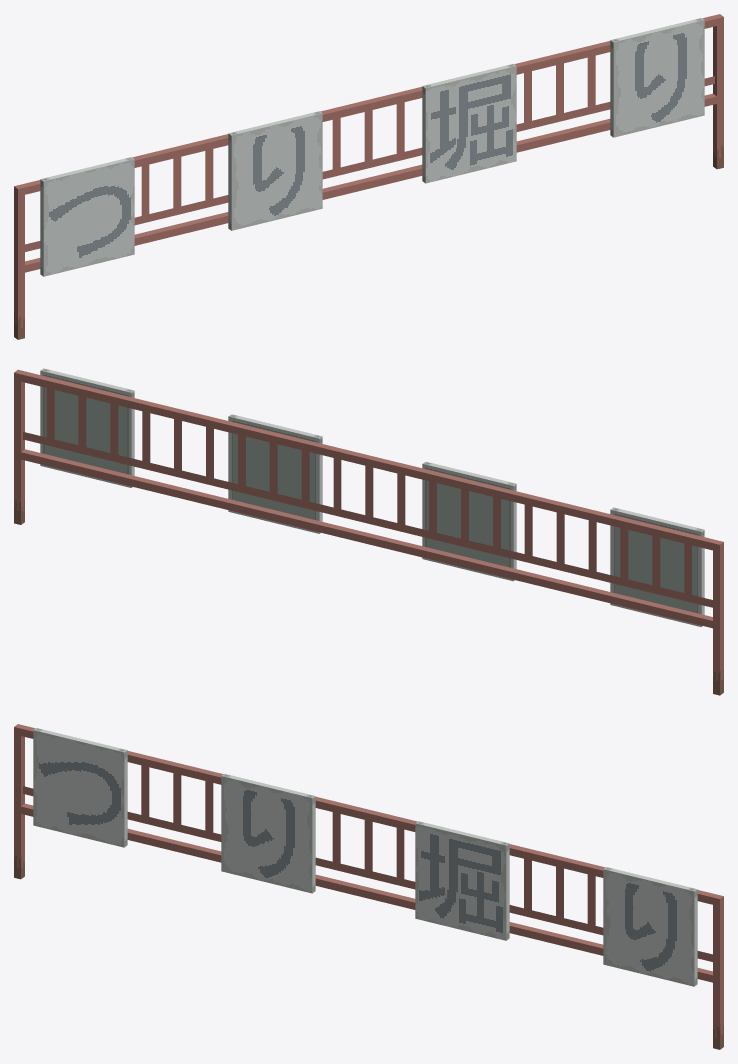
File: 044a_Fishing_Hole_Sign.glb
The picture shows the model from 3 angles, top to bottom: view 1: azimuth 30°, elevation 25°; view 2: azimuth 150°, elevation 25°; view 3: azimuth 330°, elevation 25°; orthographic projection.
Parts seen in each view (by area): view 1: part_0; view 2: part_0; view 3: part_0.
Part boxes in pixels (box(x1,y1,x2,y2)): part_0: box(14, 14, 723, 339); part_0: box(14, 368, 723, 695); part_0: box(14, 724, 723, 1049).
Size of the model in its own units: 9.16 by 1.93 by 0.1608.
1 material, 1 textured.
